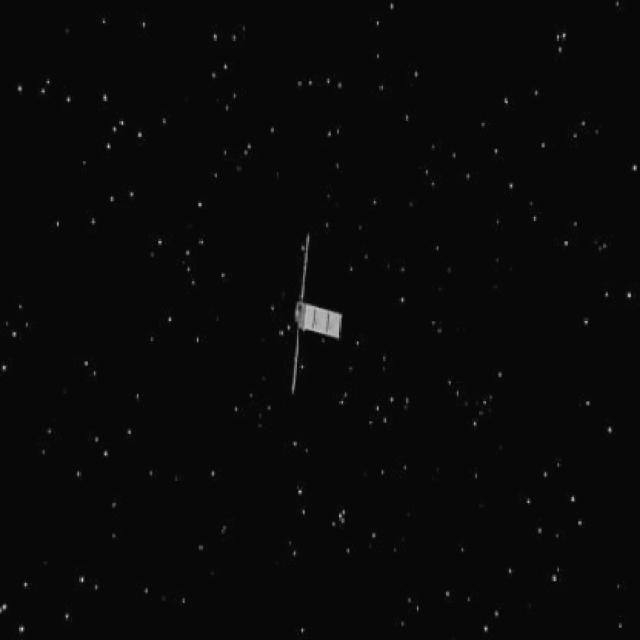satellite: (261, 237, 361, 400)
